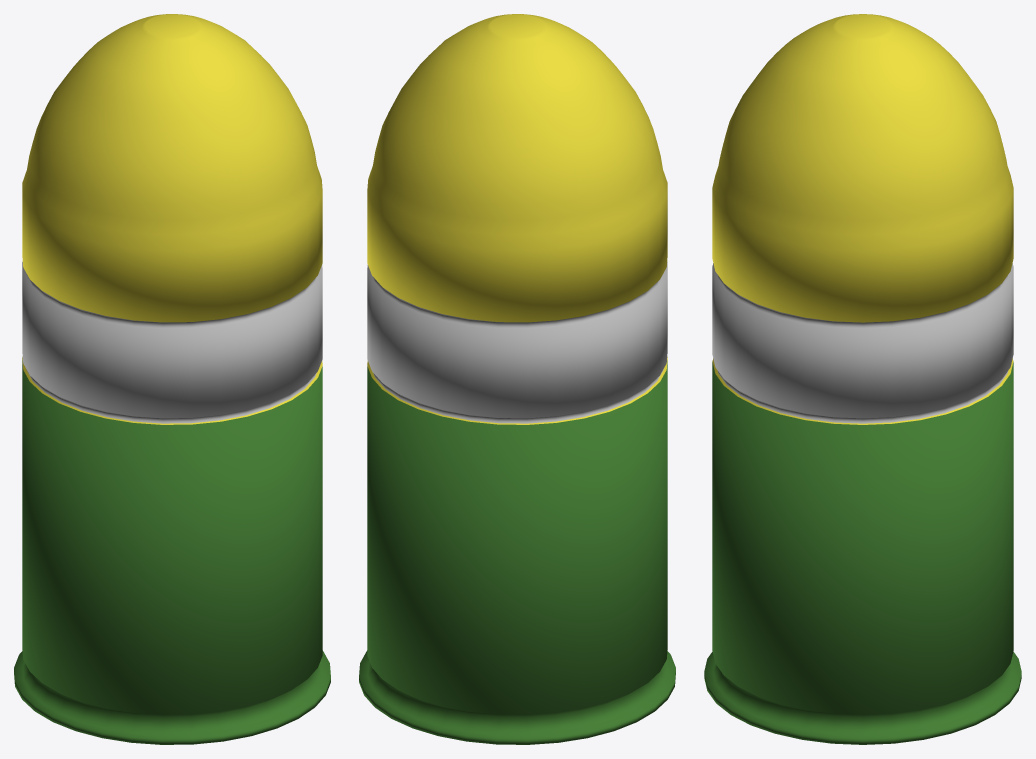
File: 40mm grenade not fired(1).fbx
3 views of the same model, side by side, from view 1: azimuth 30°, elevation 25°; view 2: azimuth 150°, elevation 25°; view 3: azimuth 270°, elevation 25° (orthographic).
Parts seen in each view (by area): view 1: Cylinder; view 2: Cylinder; view 3: Cylinder.
Boxes of the visible parts, bbox=[...] form: Cylinder: bbox=[14, 14, 330, 744]; Cylinder: bbox=[359, 14, 675, 744]; Cylinder: bbox=[704, 14, 1021, 744].
Bounding box in the file's own units: 4.15 × 9.41 × 4.15.
